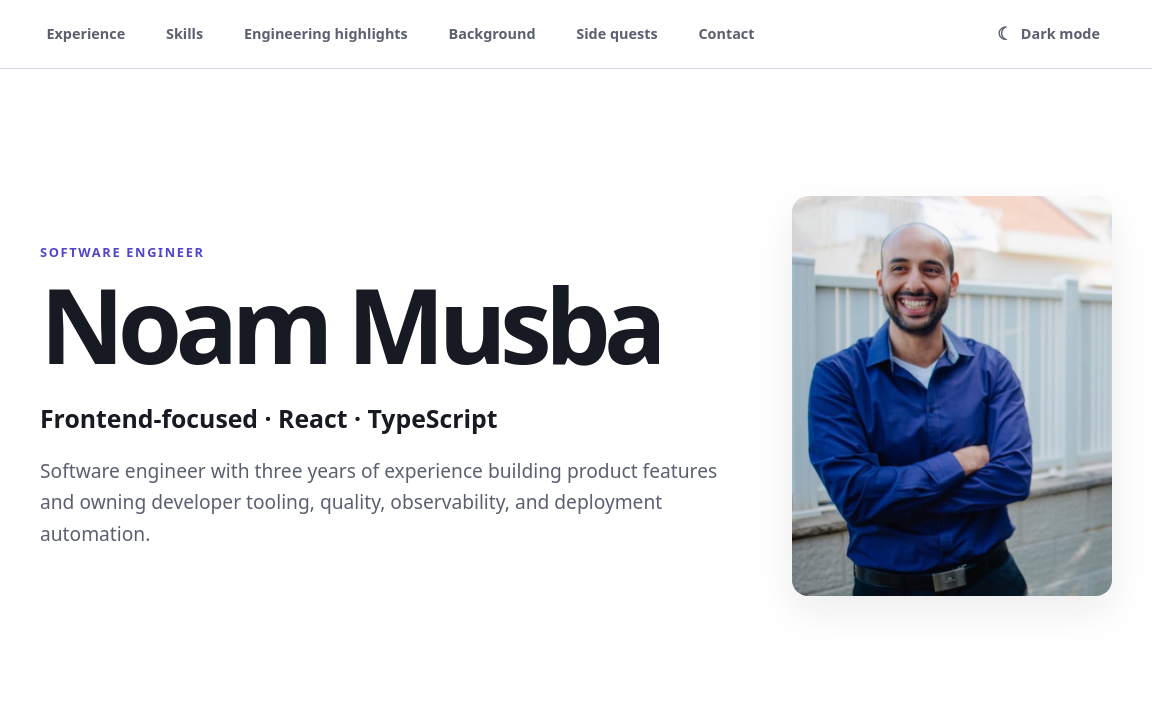
Test: theme › keeps the user's choice when the system preference changes
Click the button with aria-label "Switch to dark mode": (1048, 34) x1=985 y1=12 x2=1112 y2=56
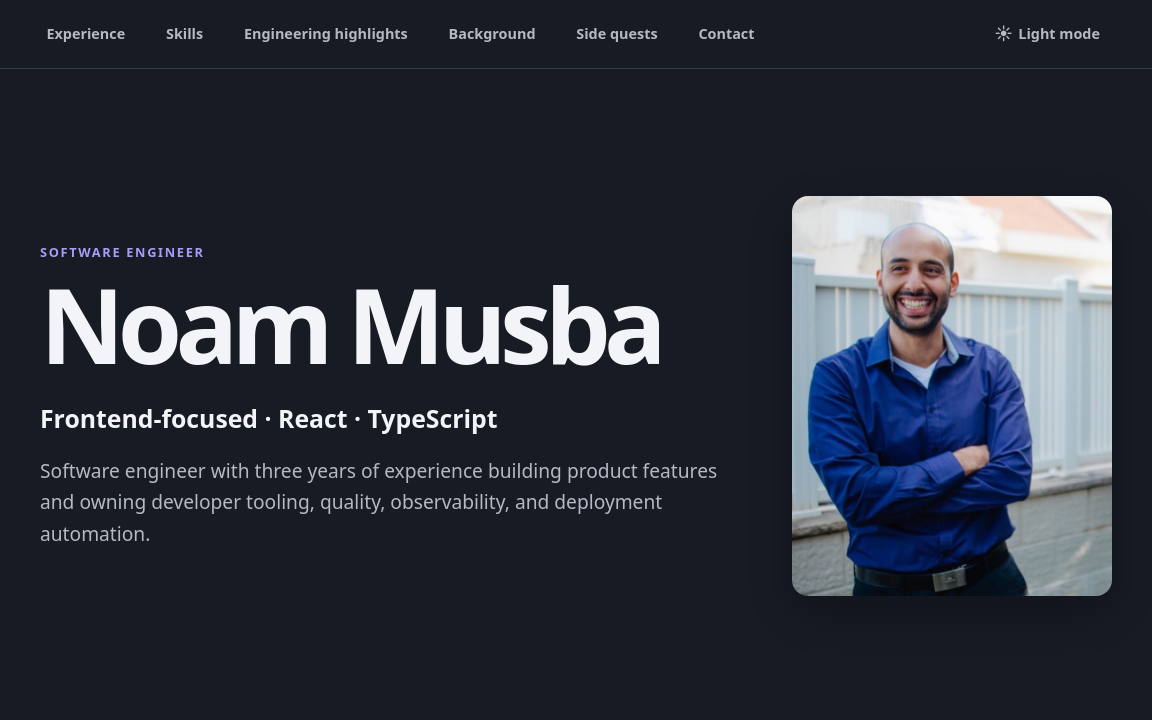
Expected: the button with aria-label "Switch to light mode" is shown, x1=982 y1=12 x2=1112 y2=56
